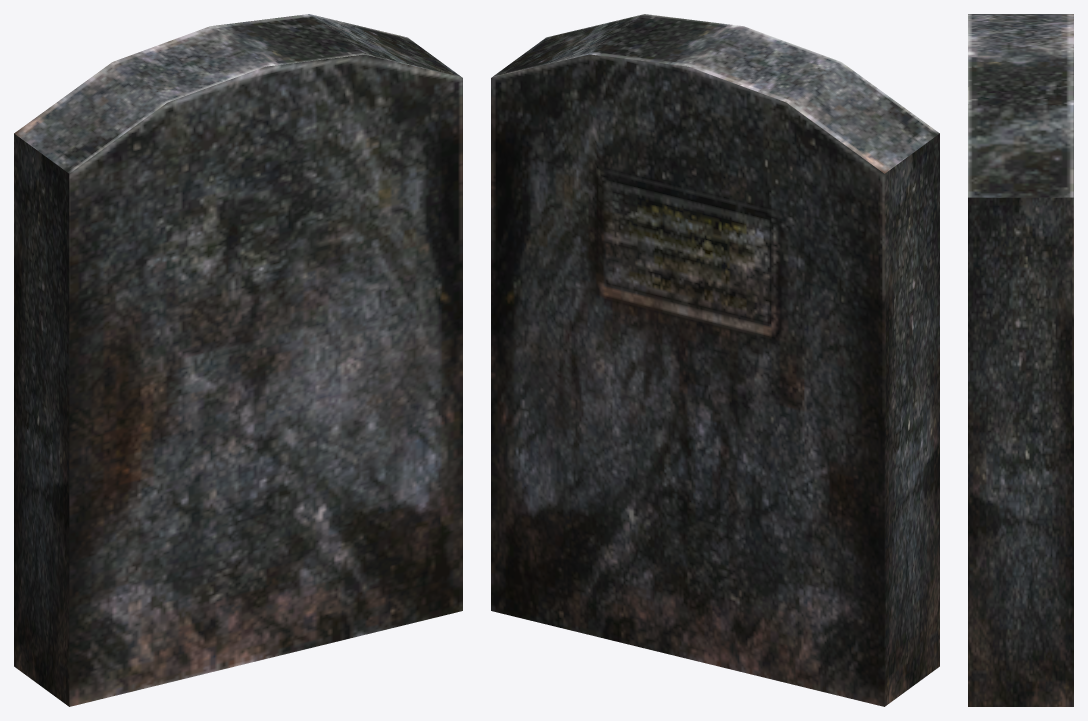
Rendered from cem_tomb1b.glb.
3 renders of one model, left to right at view 1: azimuth 30°, elevation 25°; view 2: azimuth 150°, elevation 25°; view 3: azimuth 270°, elevation 25°, orthographic. The views are drawn at different scales.
Visible parts, largest first — view 1: cem_tomb1b; view 2: cem_tomb1b; view 3: cem_tomb1b.
Part boxes in pixels (x1,y1,x2,y2): cem_tomb1b: (14,14,462,706); cem_tomb1b: (491,14,939,706); cem_tomb1b: (968,14,1073,706).
Size of the model in its own units: 1.3 by 1.87 by 0.3163.
Materials: 2 (2 with a texture image).
